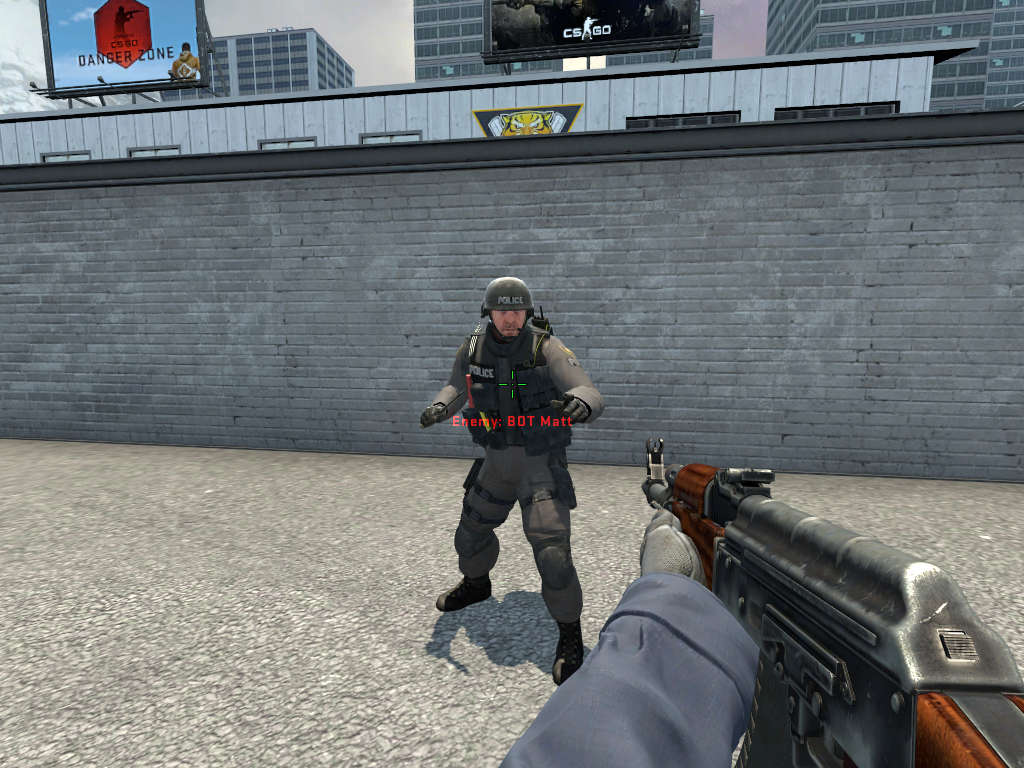ct head: (479, 274, 537, 346)
